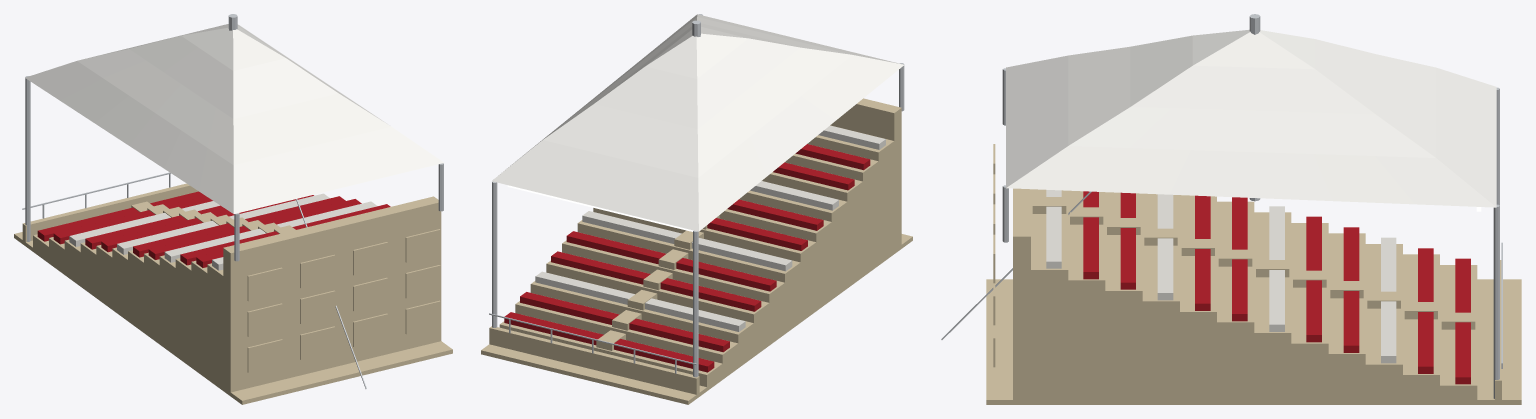
File: grada-bahrain.glb
The picture shows the model from 3 angles, left to right: view 1: azimuth 30°, elevation 25°; view 2: azimuth 150°, elevation 25°; view 3: azimuth 270°, elevation 25°; orthographic projection. The views are drawn at different scales.
Visible parts, largest first — view 1: grada-bahrain; view 2: grada-bahrain; view 3: grada-bahrain.
Part boxes in pixels (x1=…): grada-bahrain: x1=14, y1=14, x2=452, y2=404; grada-bahrain: x1=481, y1=14, x2=912, y2=404; grada-bahrain: x1=941, y1=14, x2=1521, y2=404.
Bounding box in the file's own units: 16 × 20.3 × 32.53.
